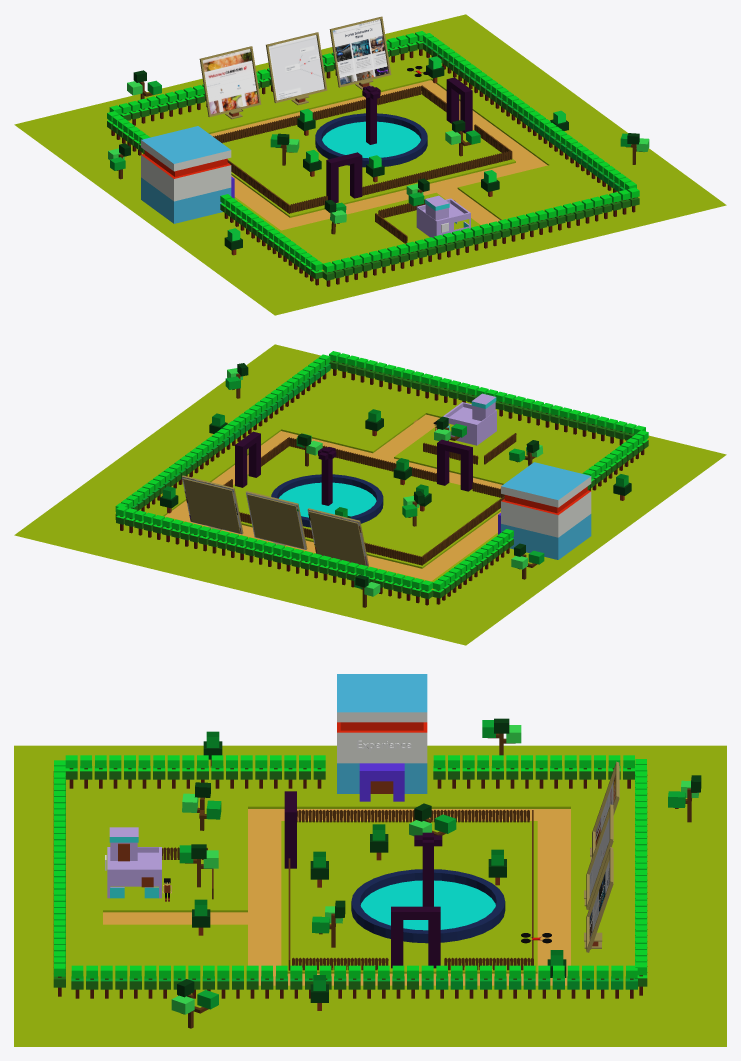
The model's file is gamePortfolio2.glb.
The picture shows the model from 3 angles, top to bottom: view 1: azimuth 30°, elevation 25°; view 2: azimuth 150°, elevation 25°; view 3: azimuth 270°, elevation 25°; orthographic projection. The views are drawn at different scales.
Visible parts, largest first — view 1: ground, office, tree.008, tree.016, fountain, project1, project2, project3, tree.001, tree.007, Cube.003, Cube.005 (+11 smaller); view 2: ground, office, tree.001, tree.008, tree.016, fountain, project2, project3, project1, tree.006, tree.007, Plane.004 (+9 smaller); view 3: ground, tree.016, office, fountain, tree.007, tree.006, tree.008, tree.001, Cube.002, house, Plane.006, Cube.004 (+12 smaller).
Boxes of the visible parts, x1=… form: ground: x1=14, y1=14, x2=726, y2=315; office: x1=141, y1=126, x2=234, y2=223; tree.008: x1=322, y1=187, x2=639, y2=286; tree.016: x1=423, y1=33, x2=636, y2=206; fountain: x1=315, y1=86, x2=427, y2=167; project1: x1=199, y1=46, x2=261, y2=119; project2: x1=266, y1=32, x2=327, y2=105; project3: x1=329, y1=16, x2=391, y2=89; tree.001: x1=109, y1=31, x2=426, y2=125; tree.007: x1=220, y1=194, x2=322, y2=285; Cube.003: x1=290, y1=150, x2=512, y2=213; Cube.005: x1=213, y1=86, x2=421, y2=143; ground: x1=14, y1=344, x2=726, y2=645; office: x1=498, y1=462, x2=591, y2=559; tree.001: x1=116, y1=506, x2=433, y2=605; tree.008: x1=329, y1=351, x2=645, y2=445; tree.016: x1=115, y1=354, x2=330, y2=519; fountain: x1=271, y1=447, x2=383, y2=527; project2: x1=246, y1=491, x2=307, y2=549; project3: x1=182, y1=475, x2=243, y2=534; project1: x1=307, y1=508, x2=368, y2=566; tree.006: x1=432, y1=529, x2=513, y2=604; tree.007: x1=582, y1=430, x2=648, y2=490; Plane.004: x1=437, y1=439, x2=472, y2=491; ground: x1=14, y1=745, x2=726, y2=1046; tree.016: x1=71, y1=965, x2=637, y2=998; office: x1=337, y1=674, x2=427, y2=801; fountain: x1=351, y1=832, x2=505, y2=943; tree.007: x1=65, y1=755, x2=325, y2=788; tree.006: x1=433, y1=755, x2=635, y2=788; tree.008: x1=53, y1=760, x2=65, y2=996; tree.001: x1=635, y1=759, x2=647, y2=995; Cube.002: x1=297, y1=809, x2=529, y2=822; house: x1=107, y1=847, x2=161, y2=898; Plane.006: x1=391, y1=906, x2=440, y2=968; Cube.004: x1=292, y1=957, x2=533, y2=970.
Size of the model in its own units: 120 by 17.56 by 120.
32 materials, 3 textured.
